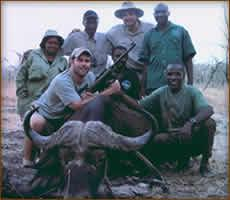Buffalo: (38, 122, 159, 200)
